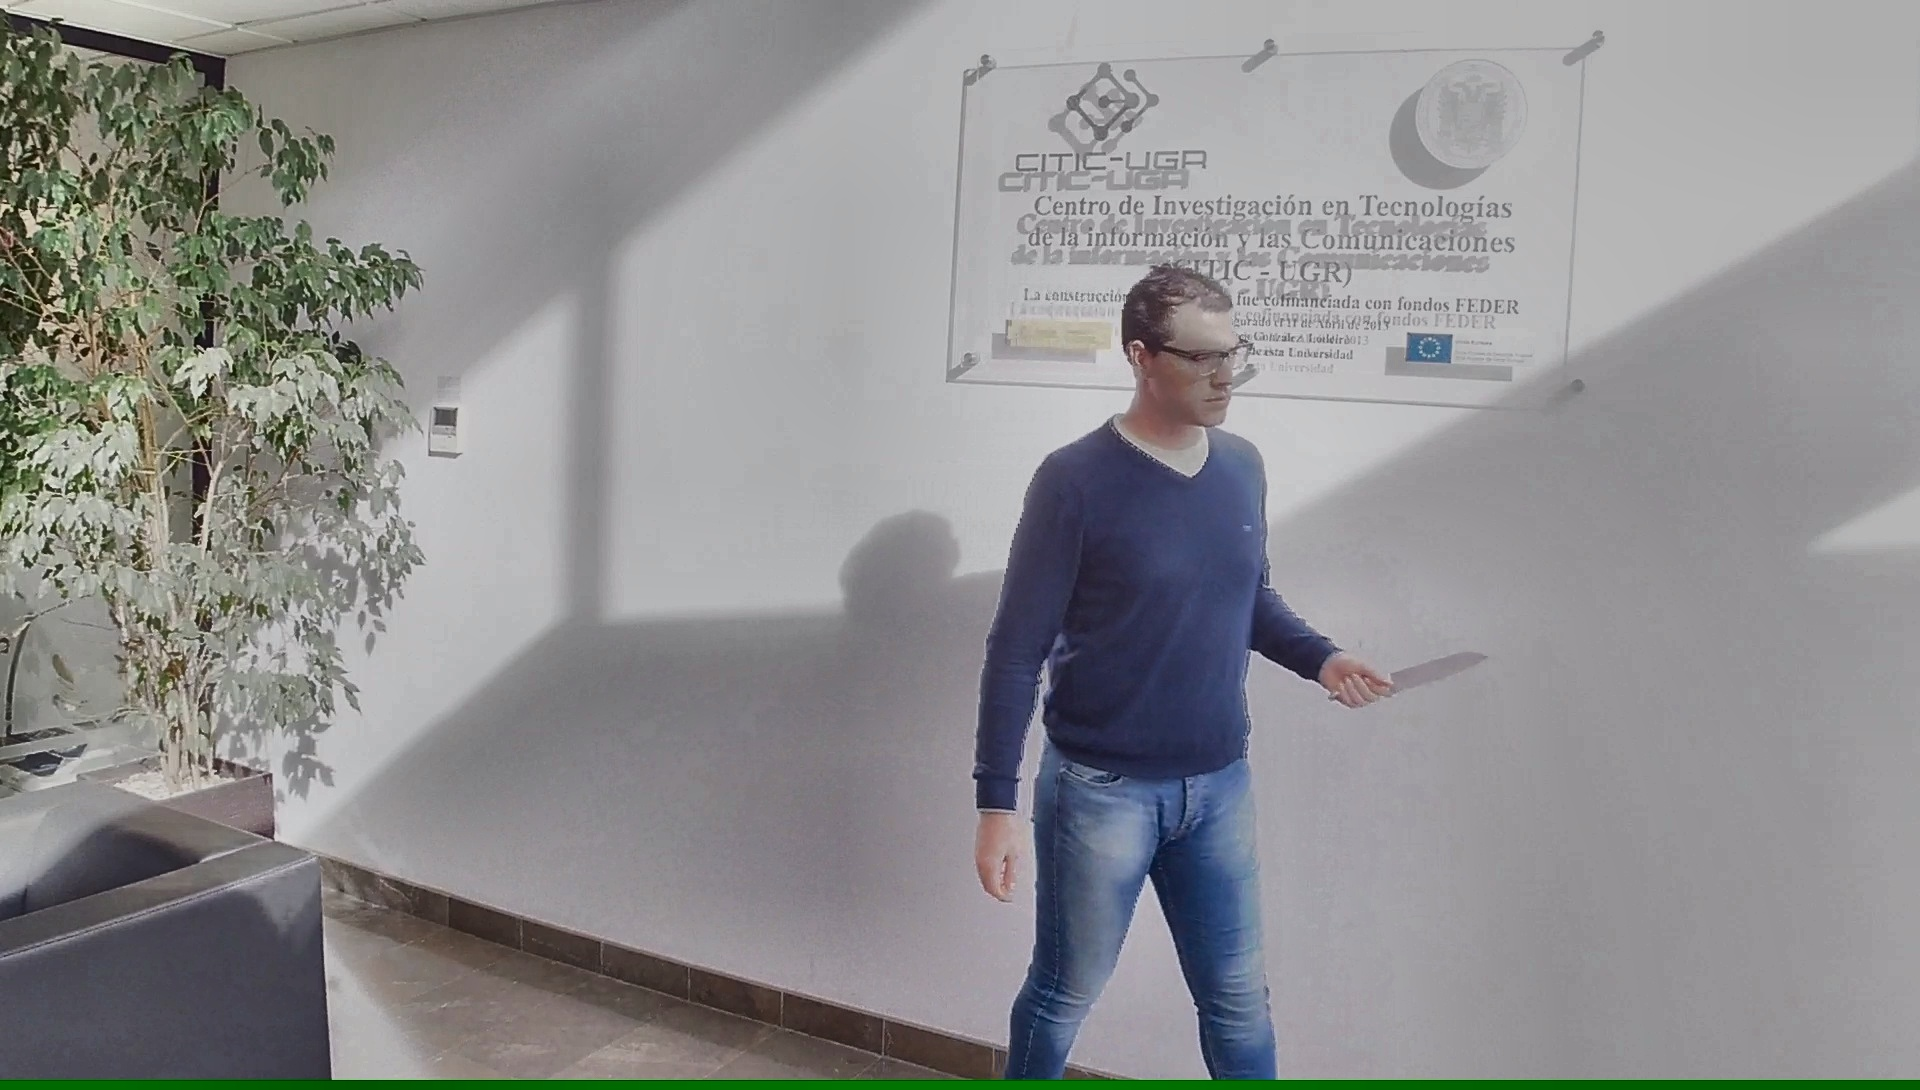knife: (1321, 639, 1502, 710)
